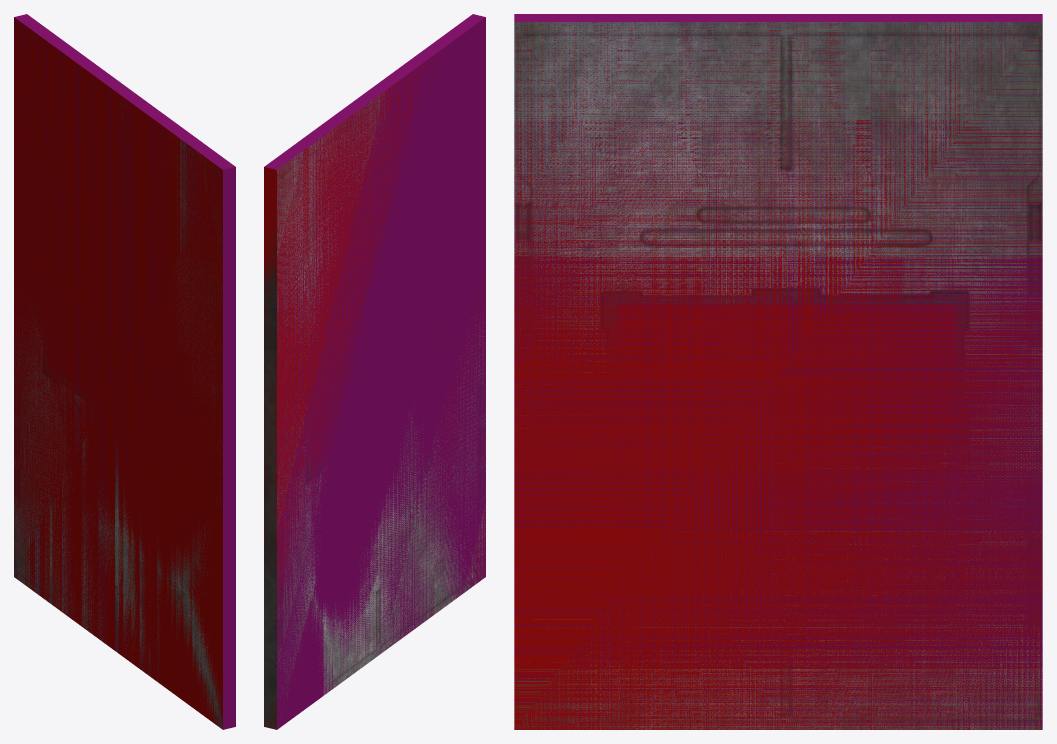
Rendered from SciFi_wall_window.DAE.
The picture shows the model from 3 angles, left to right: view 1: azimuth 30°, elevation 25°; view 2: azimuth 150°, elevation 25°; view 3: azimuth 270°, elevation 25°; orthographic projection. The views are drawn at different scales.
Visible parts, largest first — view 1: colbox-01, bounds, LP_wall_window; view 2: bounds, LP_wall_window, colbox-01; view 3: colbox-01, bounds, LP_wall_window.
Part boxes in pixels (<box>): colbox-01: <box>14,17,222,729</box>; bounds: <box>14,14,235,729</box>; LP_wall_window: <box>14,99,222,729</box>; bounds: <box>264,14,485,729</box>; LP_wall_window: <box>264,91,485,729</box>; colbox-01: <box>264,57,485,729</box>; colbox-01: <box>514,22,1042,729</box>; bounds: <box>514,14,1042,729</box>; LP_wall_window: <box>514,22,1042,729</box>.
Size of the model in its own units: 24 by 676 by 1000.
